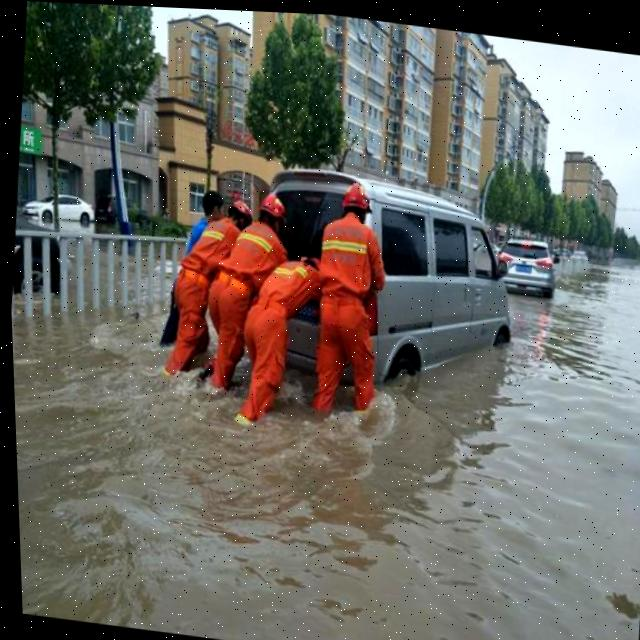civilian: (150, 174, 234, 363)
rescuer: (284, 167, 412, 444), (146, 181, 274, 396), (189, 184, 299, 417), (225, 235, 340, 439)
